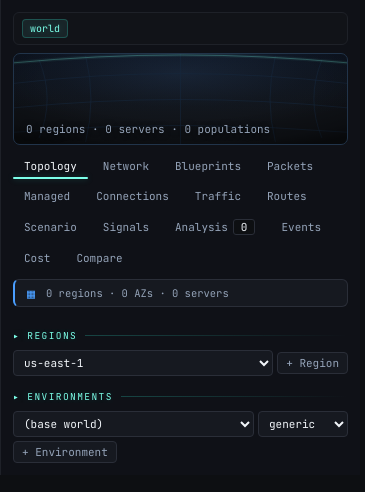
Test: WorldPanel findings tab › shows the empty state when there are no findings
The image size is (365, 492).
Click the button "Analysis 0": [215, 227] box [164,213,266,241]
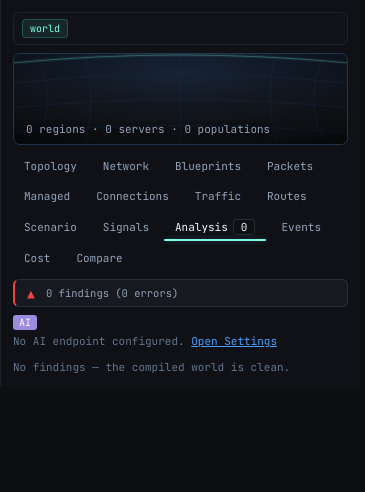
Expected: the text "No findings — the compiled world is clean." is shown, [13,360,290,374]
